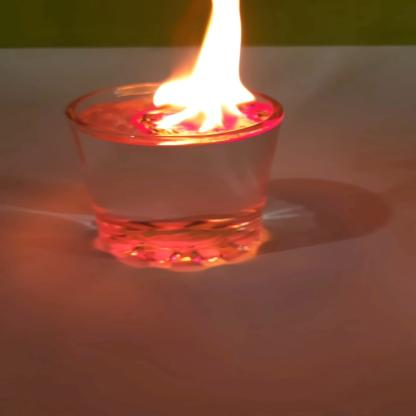Fire: (148, 0, 263, 135)
